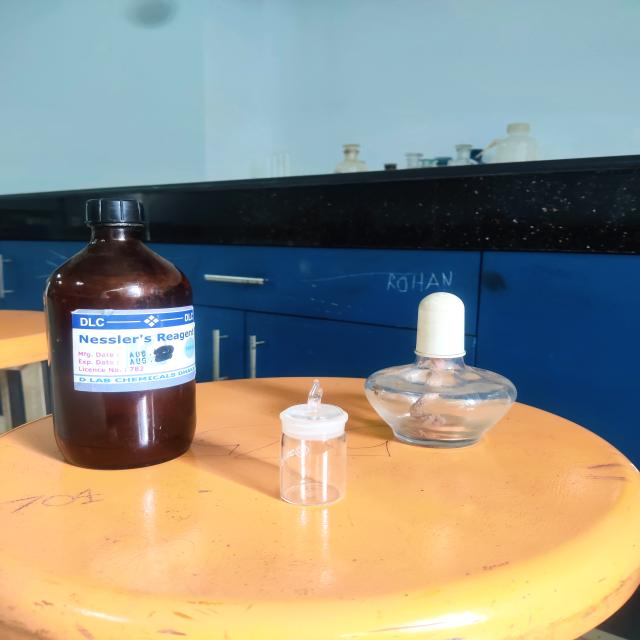Nessler_Reagent_Bottle: (19, 176, 226, 486)
Spirit_Lamp: (356, 274, 544, 462)
Weighing_Bottle: (258, 379, 373, 520)
